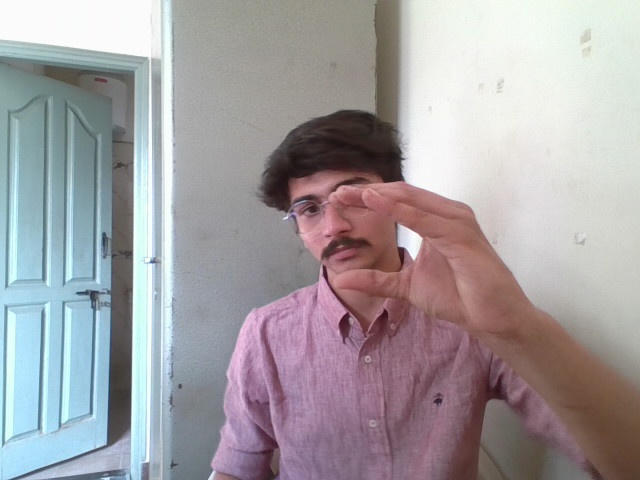no: (317, 175, 570, 355)
